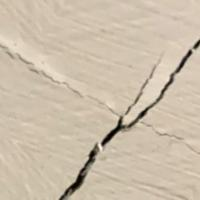crack: (40, 36, 199, 199)
